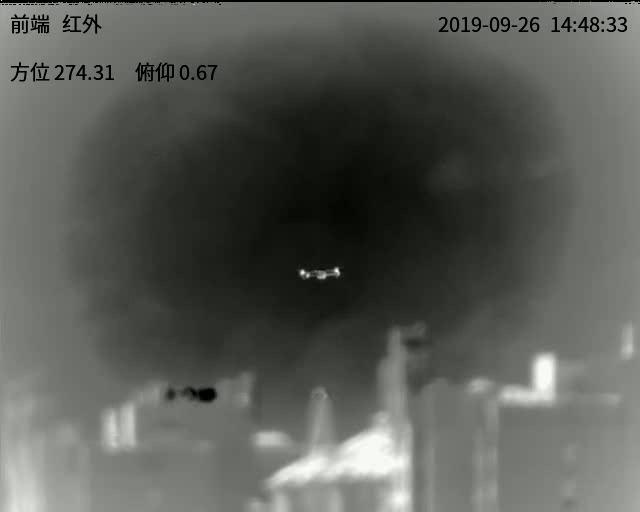DRONE: (298, 266, 342, 280)
